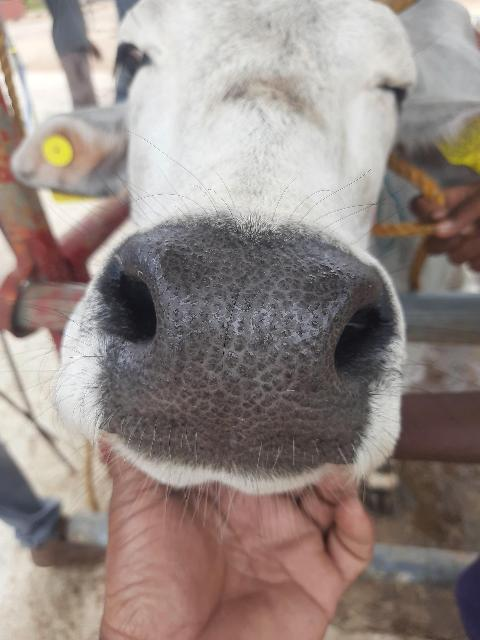Muzzle: (114, 234, 368, 448)
